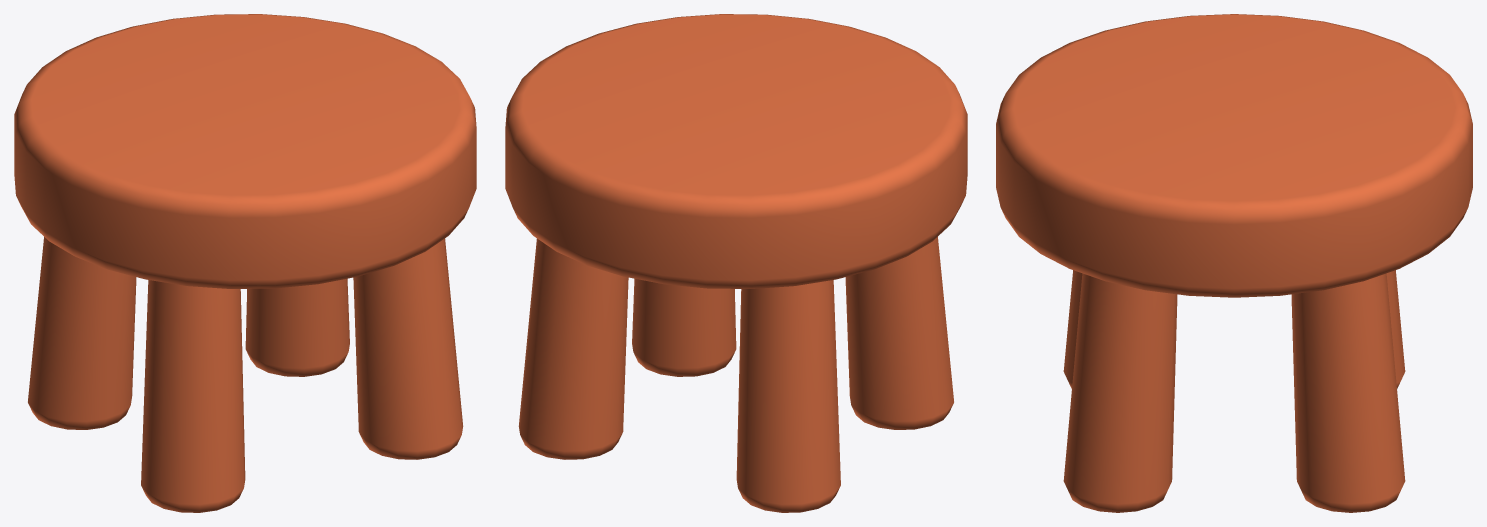
File: Isl_6_Chair_1.fbx
3 views of the same model, side by side, from view 1: azimuth 30°, elevation 25°; view 2: azimuth 150°, elevation 25°; view 3: azimuth 270°, elevation 25° (orthographic). The views are drawn at different scales.
Visible parts, largest first — view 1: Isl_6_Chair_1; view 2: Isl_6_Chair_1; view 3: Isl_6_Chair_1.
Part boxes in pixels (x1,y1,x2,y2): Isl_6_Chair_1: (14,14,476,512); Isl_6_Chair_1: (505,14,967,512); Isl_6_Chair_1: (996,14,1472,512).
Bounding box in the file's own units: 59.09 × 45.62 × 59.09.
